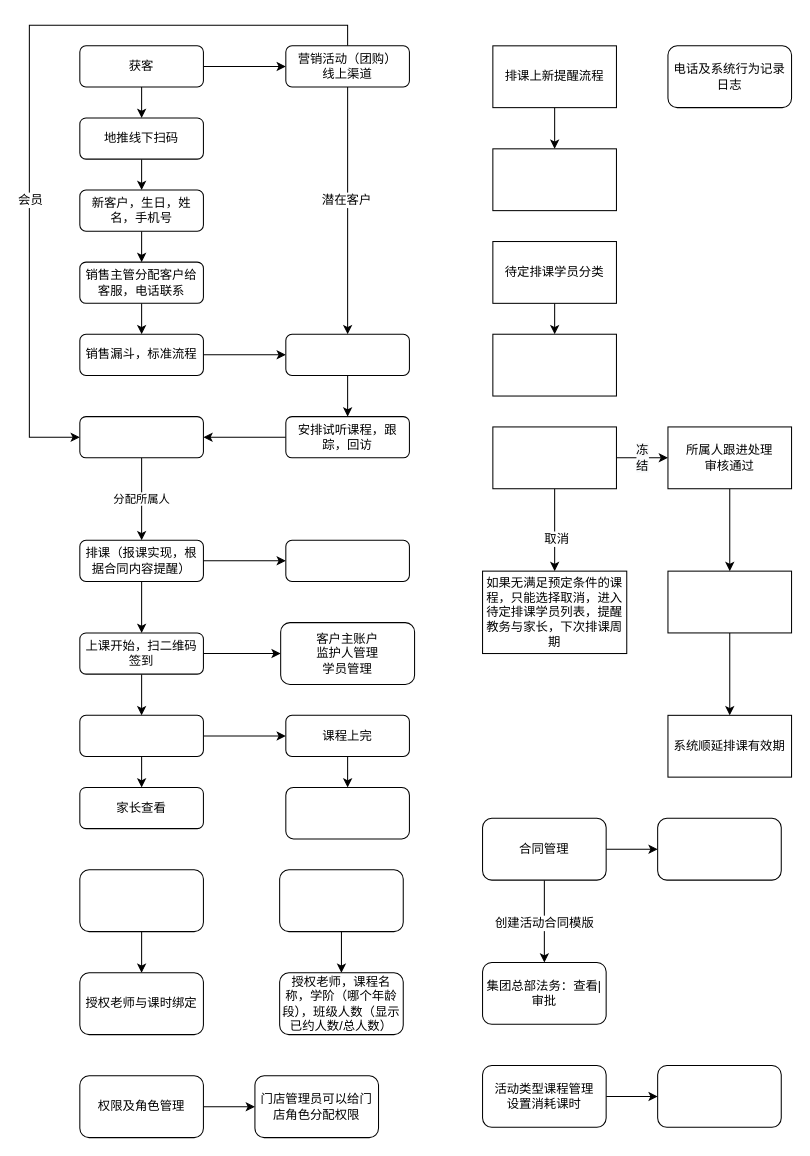
Some shapes in this 810 by 1156 pixel diagram are drawn without their labels. The shapes that lost their labels are listed below. From the top down, each one's centre as x and y in pixels, then its label:
At [554,179]: "1周内未完成，触发提醒".
At [347,354]: "邀约到访，参观咨询".
At [554,364]: "超过人数触发教务排课设计".
At [141,437]: "成单，签订合同".
At [554,457]: "请假（次数规定）|换课流程 | 冻结|家长发起申请".
At [347,560]: "触发教务提醒".
At [729,601]: "客户端家长确认冻结".
At [141,735]: "老师上传课程照片，视频，点评每个学员".
At [347,812]: "触发销售，授权老师课程记录，计算老师课时费用".
At [719,848]: "门店可以查看 修改关键字|学员姓名，电话等".
At [141,900]: "课时管理".
At [341,900]: "学员课表展示".
At [719,1096]: "家长独立报名 报名成功后注销相对应的课时".
